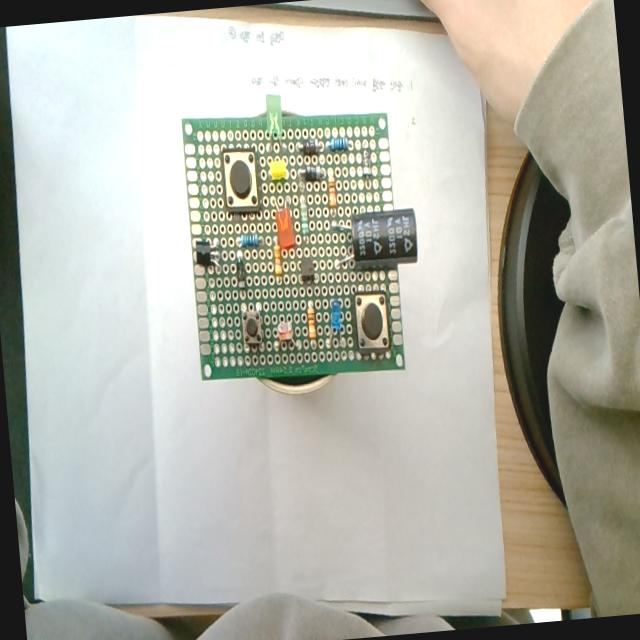Electrolytic capacitor: (348, 208, 418, 266)
cds: (272, 316, 298, 356)
diode: (302, 162, 326, 182), (235, 249, 247, 289), (298, 139, 321, 157)
led: (274, 206, 296, 252), (325, 298, 345, 346), (264, 92, 284, 138), (268, 157, 287, 180)
resistor: (298, 195, 310, 235), (272, 236, 283, 278), (326, 170, 336, 208), (306, 302, 316, 339), (238, 232, 260, 248), (327, 136, 349, 152)
switch: (222, 147, 260, 213), (353, 291, 391, 354), (238, 306, 264, 348)
transistor: (192, 238, 224, 278), (298, 256, 315, 285)
